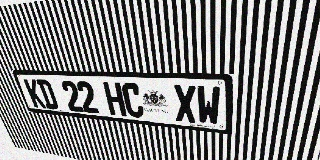2: (75, 81, 99, 114), (60, 80, 84, 112)
C: (121, 83, 145, 118)
D: (36, 79, 59, 110)
H: (103, 82, 127, 116)
K: (23, 79, 46, 108)
W: (196, 85, 220, 126)
X: (173, 85, 197, 123)
